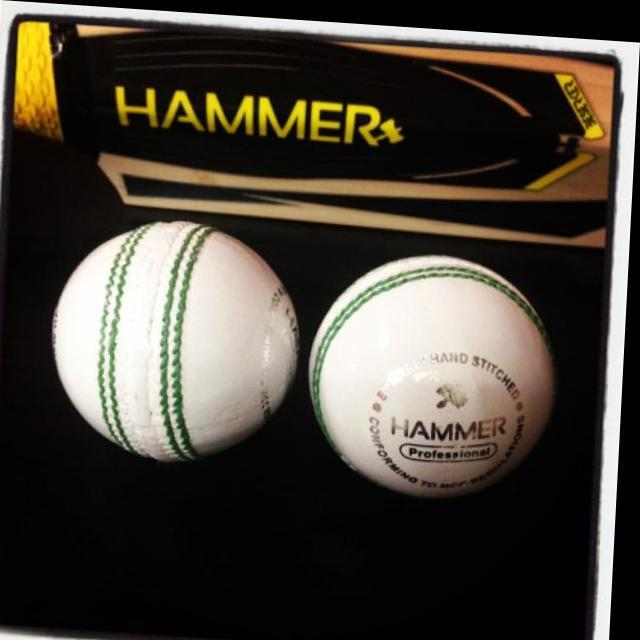cricket ball: (312, 247, 561, 493), (55, 219, 304, 462)
